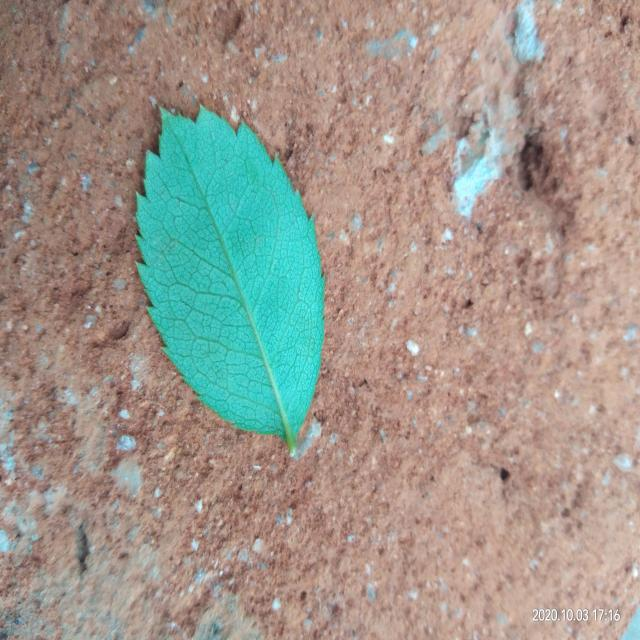rose: (136, 108, 324, 457)
